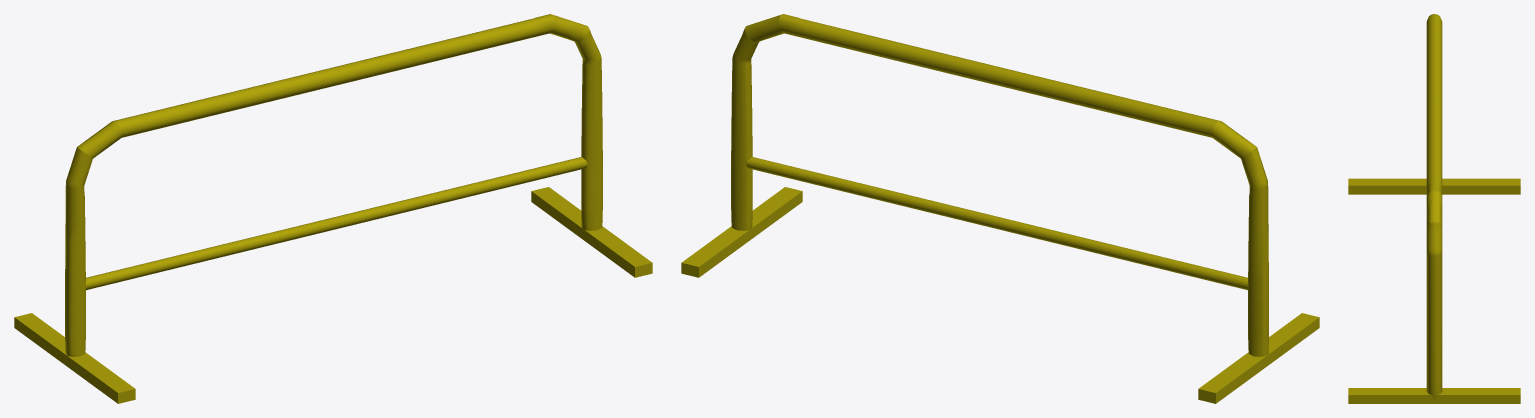
File: fence.fbx
The picture shows the model from 3 angles, left to right: view 1: azimuth 30°, elevation 25°; view 2: azimuth 150°, elevation 25°; view 3: azimuth 270°, elevation 25°; orthographic projection. The views are drawn at different scales.
Visible parts, largest first — view 1: nurbsToPoly15; view 2: nurbsToPoly15; view 3: nurbsToPoly15.
Part boxes in pixels (x1=…): nurbsToPoly15: x1=14, y1=14, x2=652, y2=403; nurbsToPoly15: x1=681, y1=14, x2=1319, y2=403; nurbsToPoly15: x1=1348, y1=14, x2=1520, y2=403.
Size of the model in its own units: 12.85 by 5.33 by 4.31.
